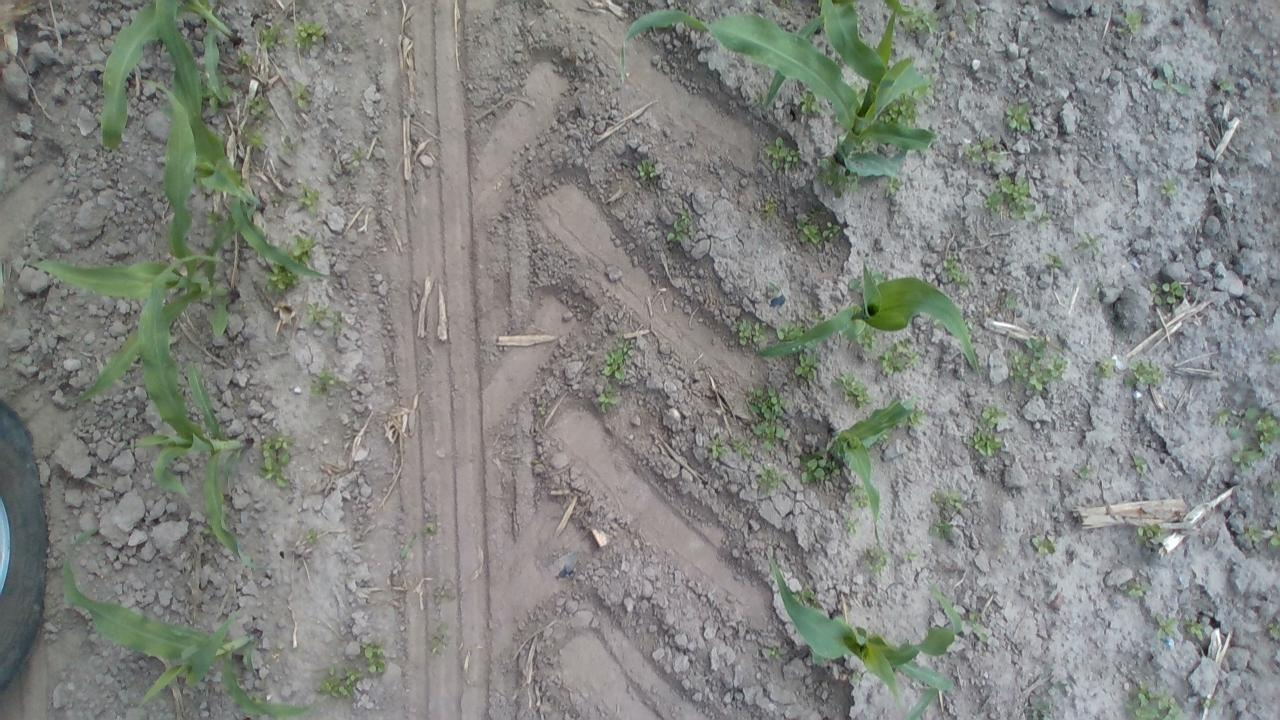Maize: (24, 80, 247, 398), (617, 0, 940, 184), (156, 0, 334, 279), (132, 252, 270, 574), (59, 559, 318, 720), (762, 552, 963, 700), (754, 260, 984, 378), (98, 0, 231, 148), (834, 397, 916, 548), (766, 0, 855, 106), (897, 687, 940, 720)
Weeds: (1007, 335, 1064, 393), (746, 383, 789, 448), (876, 81, 934, 128), (984, 174, 1036, 220), (1126, 679, 1184, 720), (256, 431, 295, 489), (796, 206, 845, 248), (816, 156, 860, 200), (831, 369, 876, 410), (319, 665, 364, 701), (1245, 404, 1280, 448), (600, 338, 634, 382), (880, 338, 919, 376), (766, 134, 804, 173), (800, 450, 841, 486), (1152, 61, 1190, 96), (198, 75, 232, 114), (303, 304, 343, 336), (1123, 358, 1165, 387), (282, 230, 314, 268), (264, 262, 300, 295), (793, 342, 819, 386), (1232, 441, 1271, 470), (965, 136, 1003, 165), (900, 6, 939, 34), (757, 463, 787, 496), (255, 19, 288, 48), (942, 254, 971, 287), (667, 206, 694, 241), (292, 18, 324, 47), (736, 318, 769, 346), (969, 429, 1002, 457), (1150, 280, 1185, 306), (294, 182, 320, 217), (847, 270, 886, 293), (931, 489, 964, 514), (362, 640, 386, 674), (290, 78, 312, 114), (1005, 102, 1032, 131), (856, 324, 881, 354), (864, 542, 886, 576), (310, 368, 336, 396), (595, 381, 618, 412), (776, 318, 805, 342), (926, 46, 944, 82), (245, 96, 272, 120), (980, 407, 1010, 428), (891, 411, 924, 430), (930, 518, 954, 544), (798, 89, 823, 113), (731, 438, 754, 464), (1134, 523, 1161, 545), (880, 175, 904, 199), (792, 587, 818, 609), (239, 125, 267, 145), (1156, 614, 1179, 638), (849, 483, 870, 508), (1124, 580, 1152, 598), (1124, 10, 1143, 36), (1032, 534, 1056, 554), (972, 614, 989, 642), (842, 511, 859, 538), (760, 197, 781, 218), (1096, 357, 1118, 377), (1077, 230, 1099, 250), (708, 438, 728, 459), (1184, 618, 1205, 638), (960, 318, 976, 344), (72, 528, 96, 545), (232, 48, 254, 66), (636, 160, 656, 179), (1132, 454, 1150, 474), (1244, 526, 1266, 542), (963, 8, 978, 31), (350, 144, 364, 168), (852, 138, 876, 152), (1269, 520, 1280, 550), (851, 84, 866, 106), (751, 92, 767, 110), (1160, 180, 1179, 195), (1047, 253, 1062, 272), (206, 210, 223, 226), (1074, 463, 1090, 480), (1217, 77, 1235, 92), (810, 311, 825, 328), (247, 693, 267, 705), (901, 550, 920, 562), (1217, 408, 1231, 424), (768, 646, 784, 660), (874, 428, 891, 441), (1228, 424, 1242, 439), (271, 195, 290, 206), (1032, 702, 1050, 713), (1268, 622, 1280, 638), (306, 527, 316, 545), (768, 281, 783, 293), (889, 39, 896, 64), (1268, 351, 1280, 364), (1004, 296, 1017, 308), (426, 526, 441, 536), (1199, 698, 1213, 708), (1039, 210, 1050, 222), (850, 672, 860, 684)
